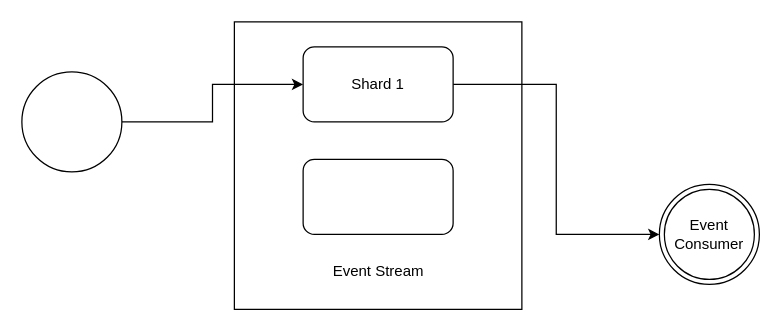
The diagram is 781 pixels wide and 331 high, and some of its shapes have lost their labels. The centre of each missing label's shape, as x and y in pixels:
"Event Producer" belongs at [71,121].
"Shard 2" belongs at [377,196].
